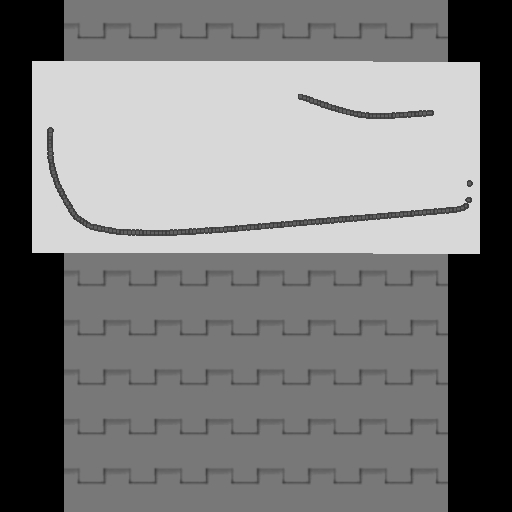Defect: (46, 91, 298, 131)
